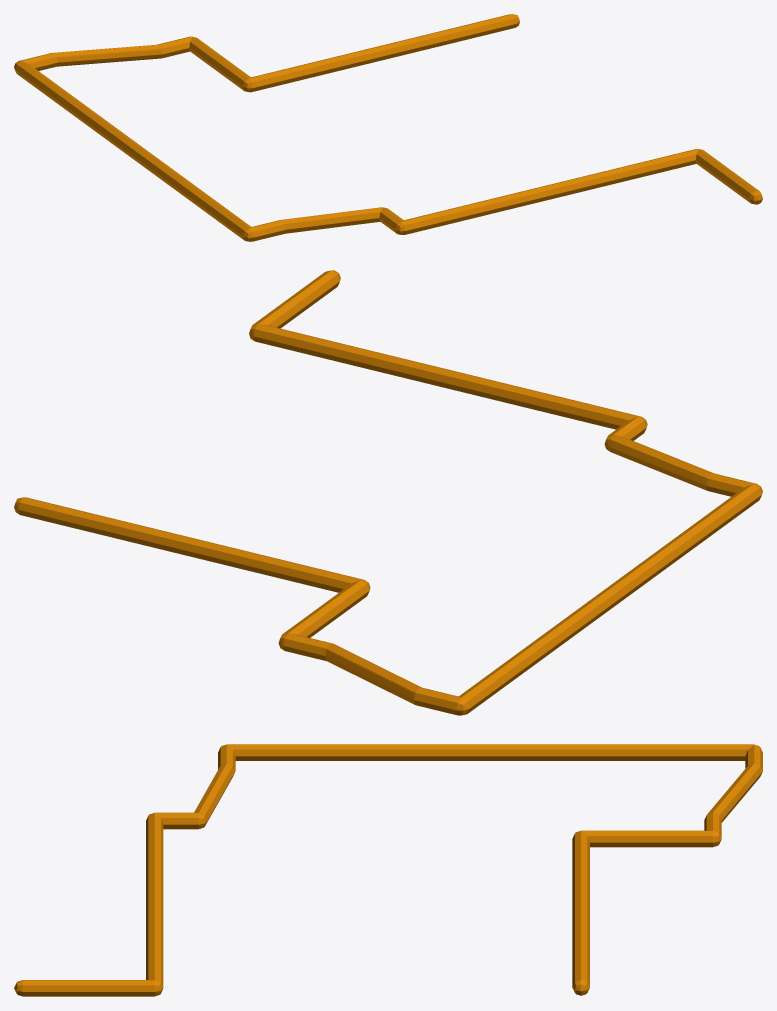
3 views of the same model, one above another, from view 1: azimuth 30°, elevation 25°; view 2: azimuth 150°, elevation 25°; view 3: azimuth 270°, elevation 25° (orthographic). The views are drawn at different scales.
Size of the model in its own units: 654 by 20 by 852.
